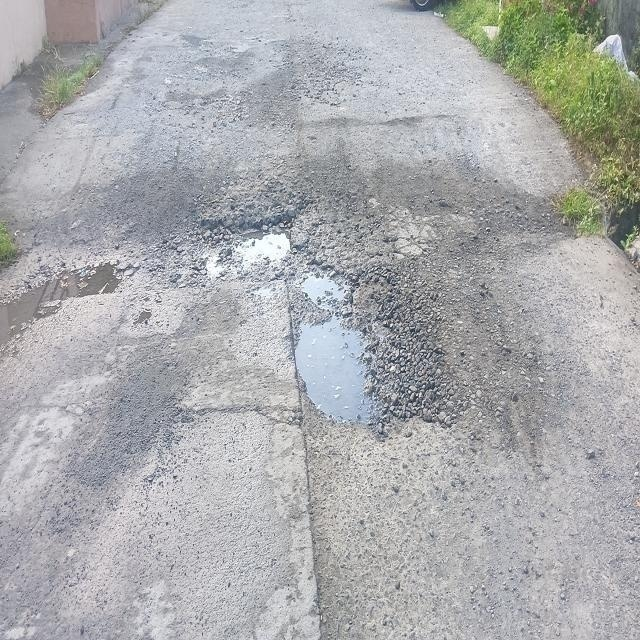pothole: (179, 210, 419, 462)
